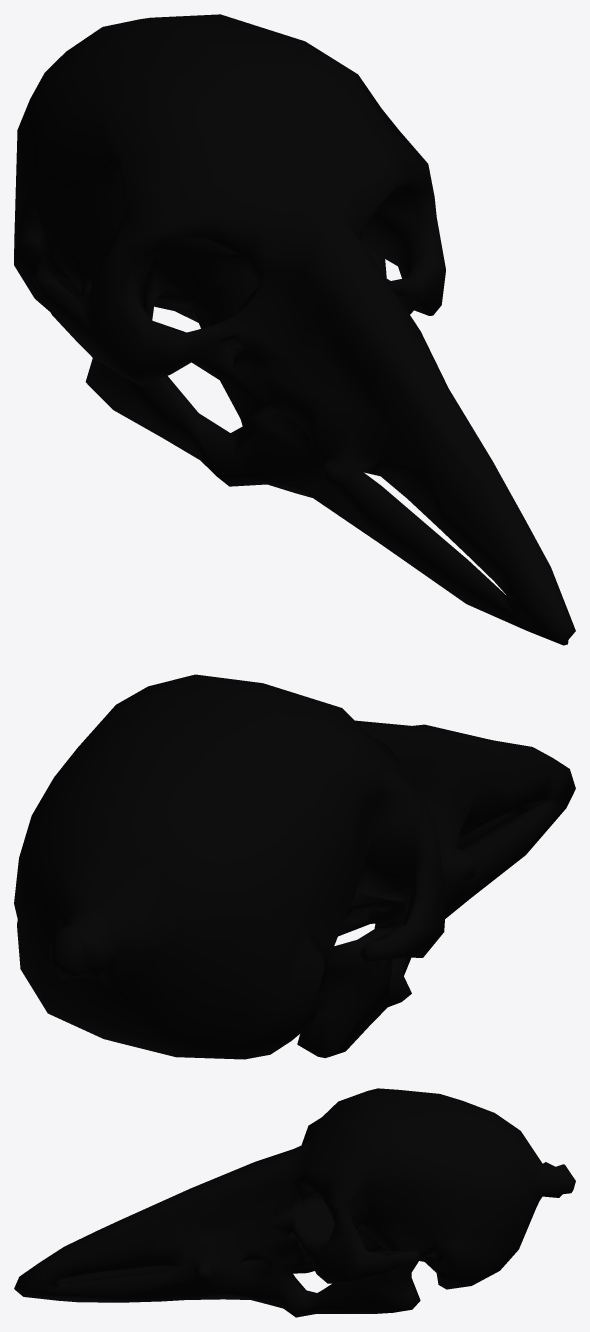
Rendered from head_beak_01.glb.
3 renders of one model, top to bottom at view 1: azimuth 30°, elevation 25°; view 2: azimuth 150°, elevation 25°; view 3: azimuth 270°, elevation 25°, orthographic. The views are drawn at different scales.
Visible parts, largest first — view 1: CreaturePart_Head_Beak_01_LOD0-col; view 2: CreaturePart_Head_Beak_01_LOD0-col; view 3: CreaturePart_Head_Beak_01_LOD0-col.
Part boxes in pixels (x1=…): CreaturePart_Head_Beak_01_LOD0-col: x1=14, y1=14, x2=575, y2=645; CreaturePart_Head_Beak_01_LOD0-col: x1=14, y1=674, x2=575, y2=1059; CreaturePart_Head_Beak_01_LOD0-col: x1=14, y1=1088, x2=575, y2=1317.
Size of the model in its own units: 0.4001 by 0.3863 by 0.9992.
1 material, 1 textured.
